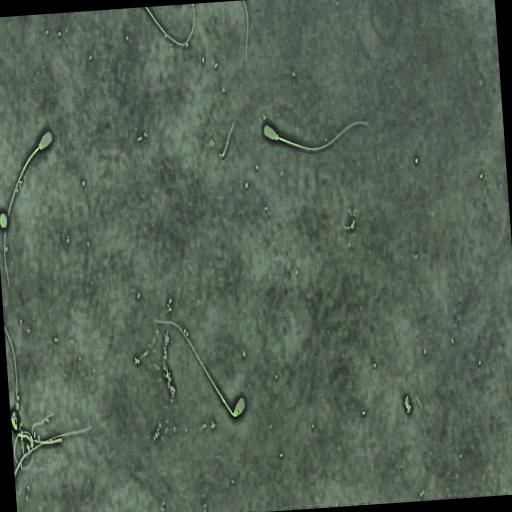dirt-particles: (0, 210, 9, 229)
folded-tail: (154, 319, 234, 417)
loose-tail: (14, 423, 93, 479), (144, 4, 197, 49), (242, 0, 250, 63)
normal: (146, 305, 254, 429), (3, 126, 55, 290), (256, 115, 376, 160)
